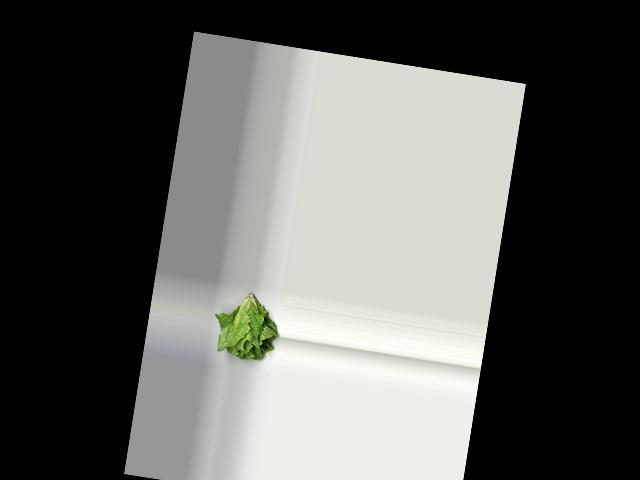lettuce: (209, 286, 284, 364)
